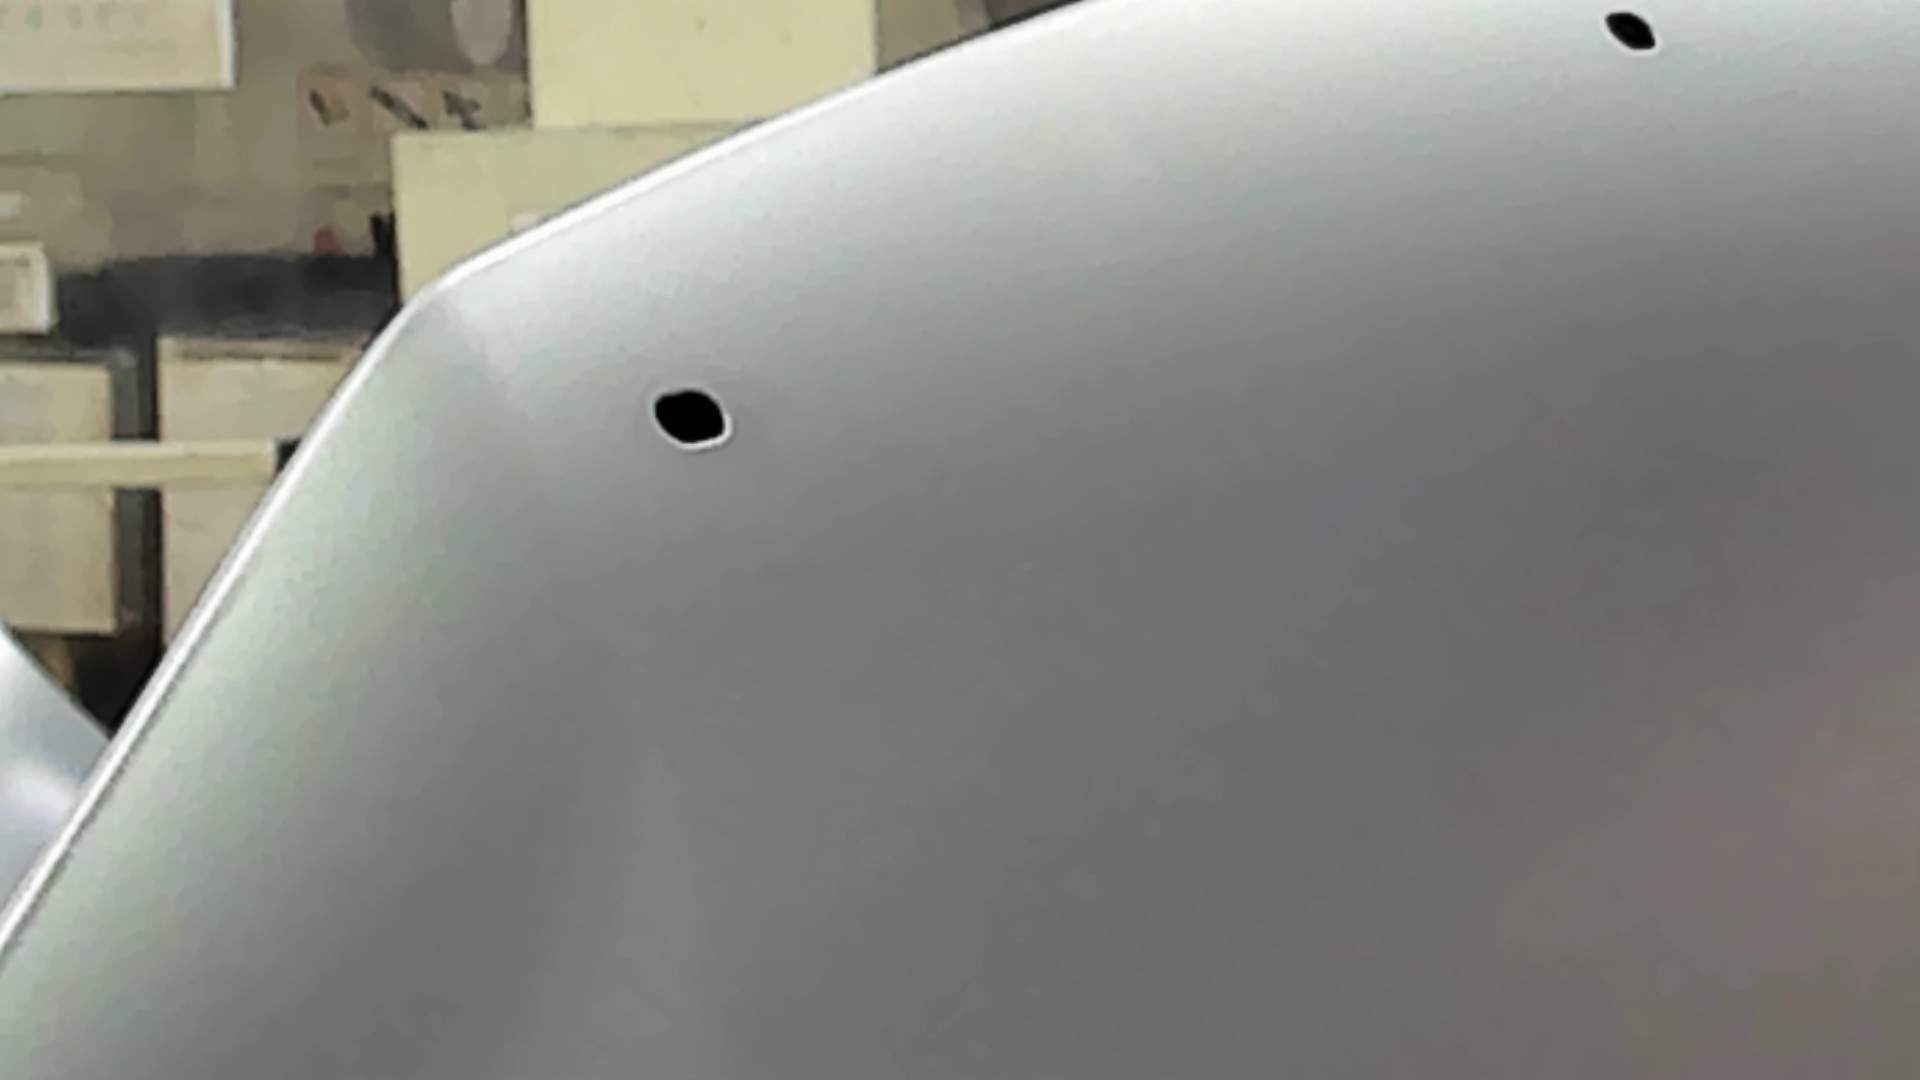amorfo: (645, 382, 735, 454), (1600, 7, 1658, 55)
capo: (819, 156, 1920, 1080)
